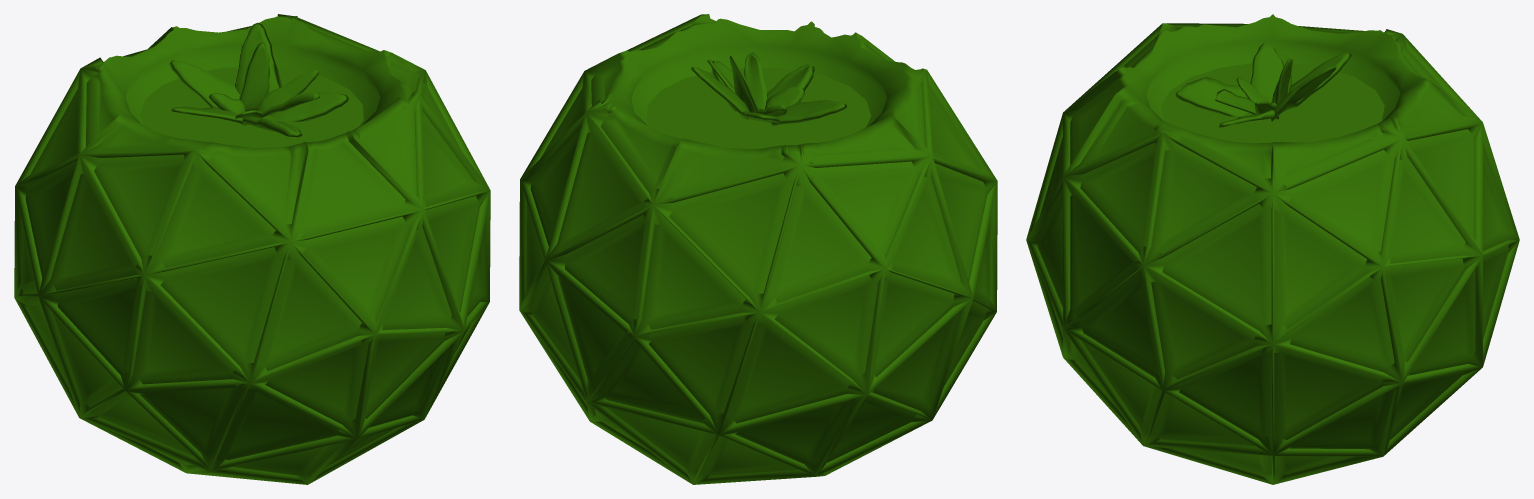
File: Celtic Sphere FBX.fbx
3 renders of one model, left to right at view 1: azimuth 30°, elevation 25°; view 2: azimuth 150°, elevation 25°; view 3: azimuth 270°, elevation 25°, orthographic.
Parts seen in each view (by area): view 1: Celtic_Sphere; view 2: Celtic_Sphere; view 3: Celtic_Sphere.
Boxes of the visible parts, x1,y1,x2,y2 form: Celtic_Sphere: [14, 14, 490, 484]; Celtic_Sphere: [519, 14, 997, 484]; Celtic_Sphere: [1026, 14, 1519, 484].
Size of the model in its own units: 10.35 by 9.32 by 10.35.
